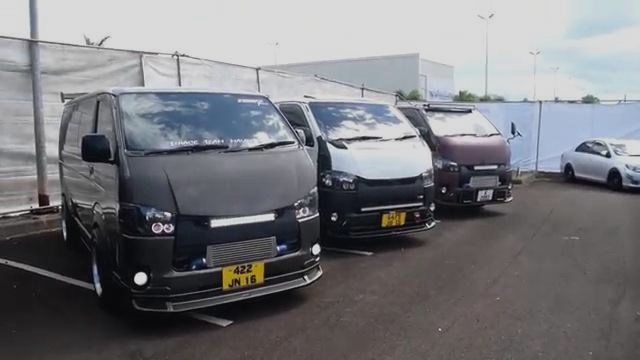van: (60, 86, 328, 310), (279, 97, 437, 246), (400, 96, 521, 218)
